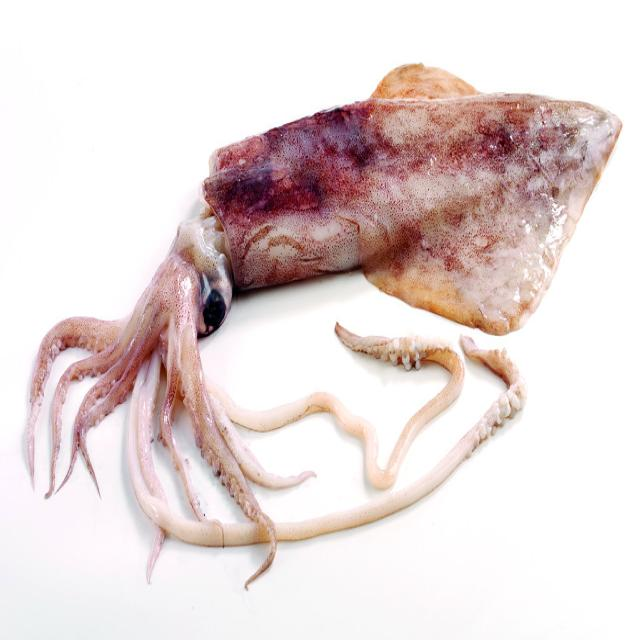SQUID: (22, 58, 637, 494)
